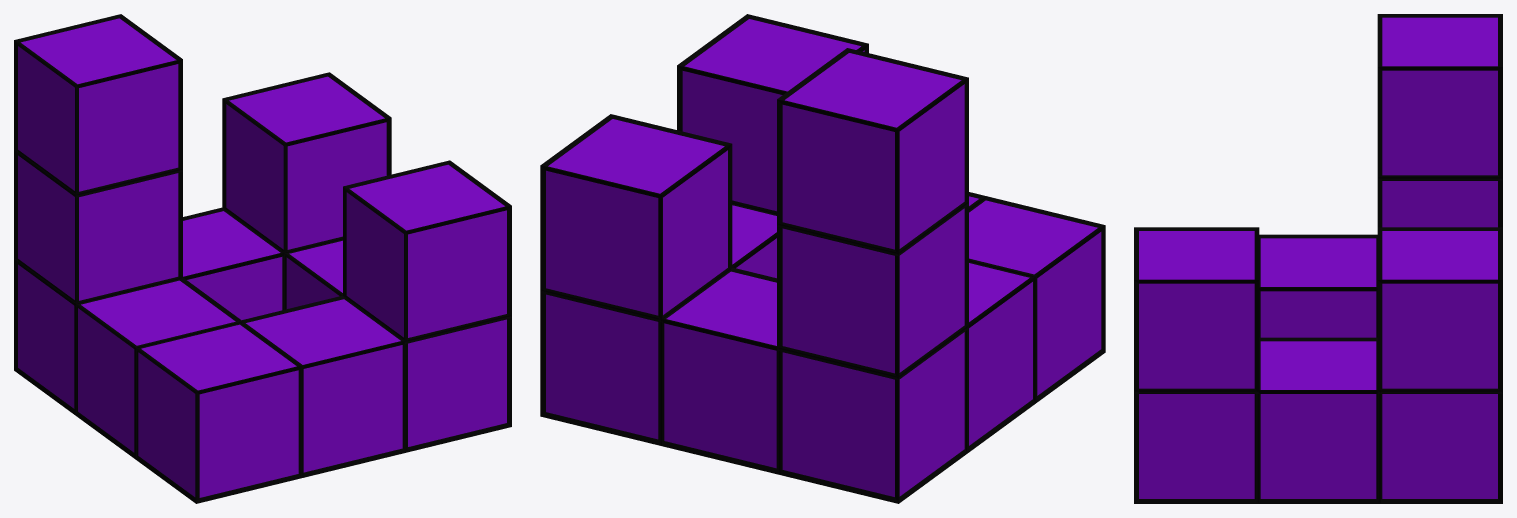
The picture shows the model from 3 angles, left to right: view 1: azimuth 30°, elevation 25°; view 2: azimuth 150°, elevation 25°; view 3: azimuth 270°, elevation 25°; orthographic projection. The views are drawn at different scales.
Visible parts, largest first — view 1: a3:Mesh; view 2: a3:Mesh; view 3: a3:Mesh.
Part boxes in pixels (x1,y1,x2,y2): a3:Mesh: (14, 14, 511, 503); a3:Mesh: (540, 14, 1105, 503); a3:Mesh: (1134, 14, 1502, 503).
Bounding box in the file's own units: 6.06 × 6.06 × 6.06.
